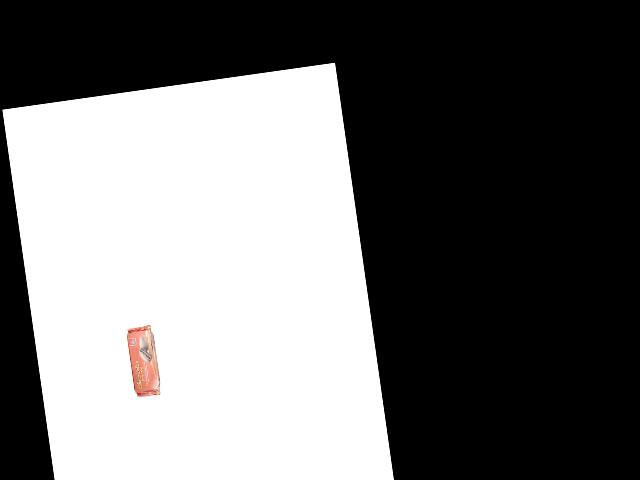chocolate: (125, 322, 168, 399)
